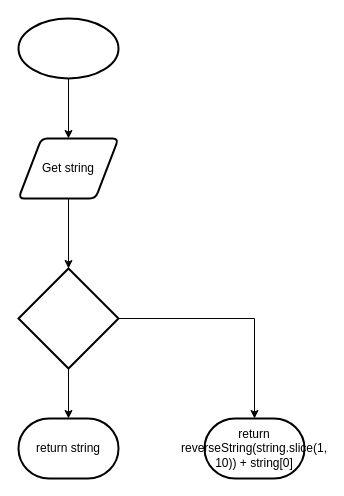
The diagram is 344 pixels wide and 496 high, and some of its shapes have lost their labels. Here are the shapes that lost their labels. From the top down, the centre of each, then its label:
At point 68,48: "Start".
At point 68,318: "if (string == '')".
